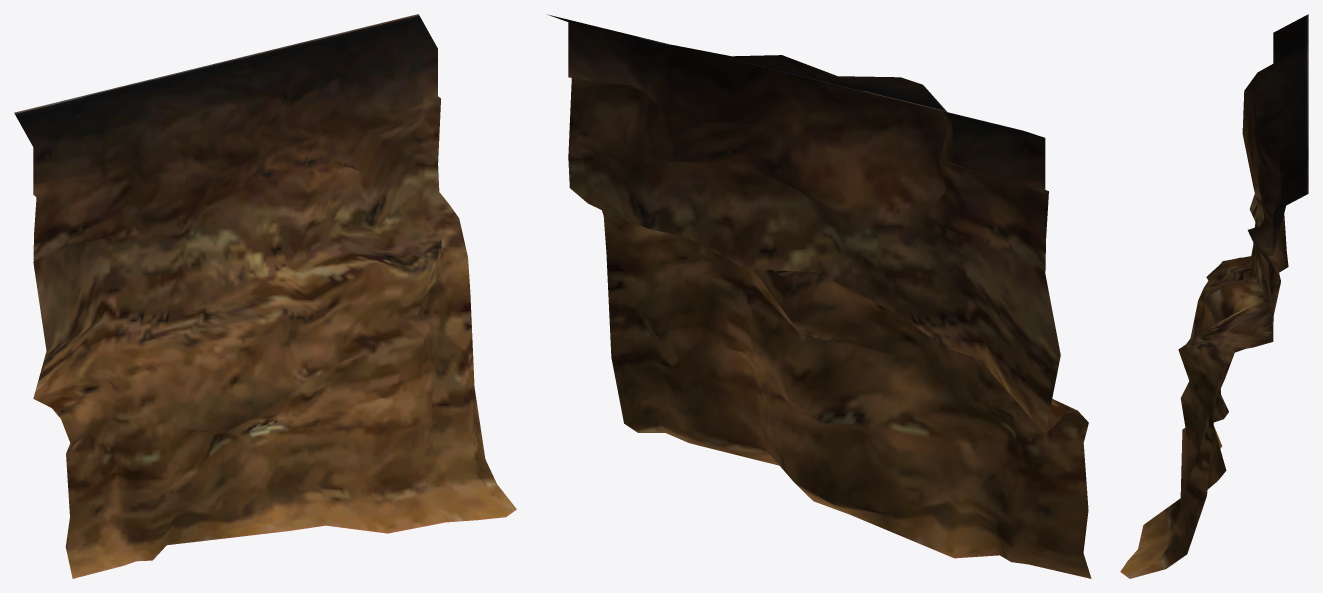
The model's file is tunnelWallE.fbx.
The picture shows the model from 3 angles, left to right: view 1: azimuth 30°, elevation 25°; view 2: azimuth 150°, elevation 25°; view 3: azimuth 270°, elevation 25°; orthographic projection. The views are drawn at different scales.
Parts seen in each view (by area): view 1: tunnelWallE; view 2: tunnelWallE; view 3: tunnelWallE.
Boxes of the visible parts, x1=… form: tunnelWallE: x1=14, y1=14, x2=516, y2=578; tunnelWallE: x1=547, y1=14, x2=1091, y2=578; tunnelWallE: x1=1120, y1=14, x2=1308, y2=578.
Bounding box in the file's own units: 300 × 300 × 133.
